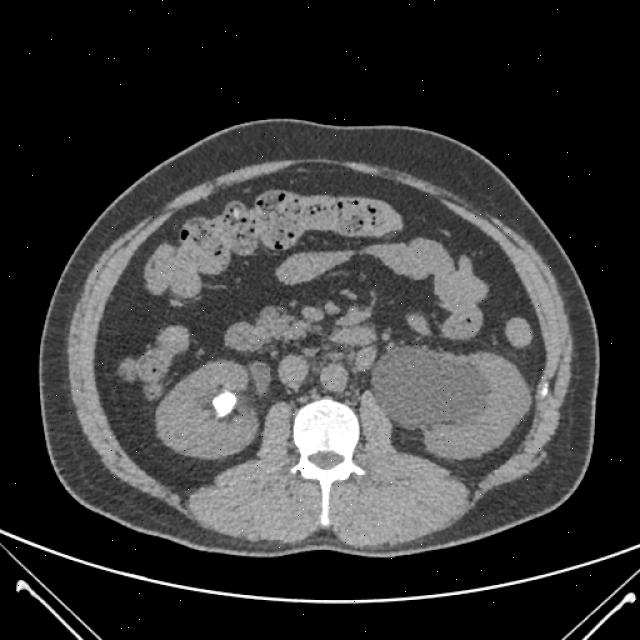kidneystone: (212, 391, 236, 417)
